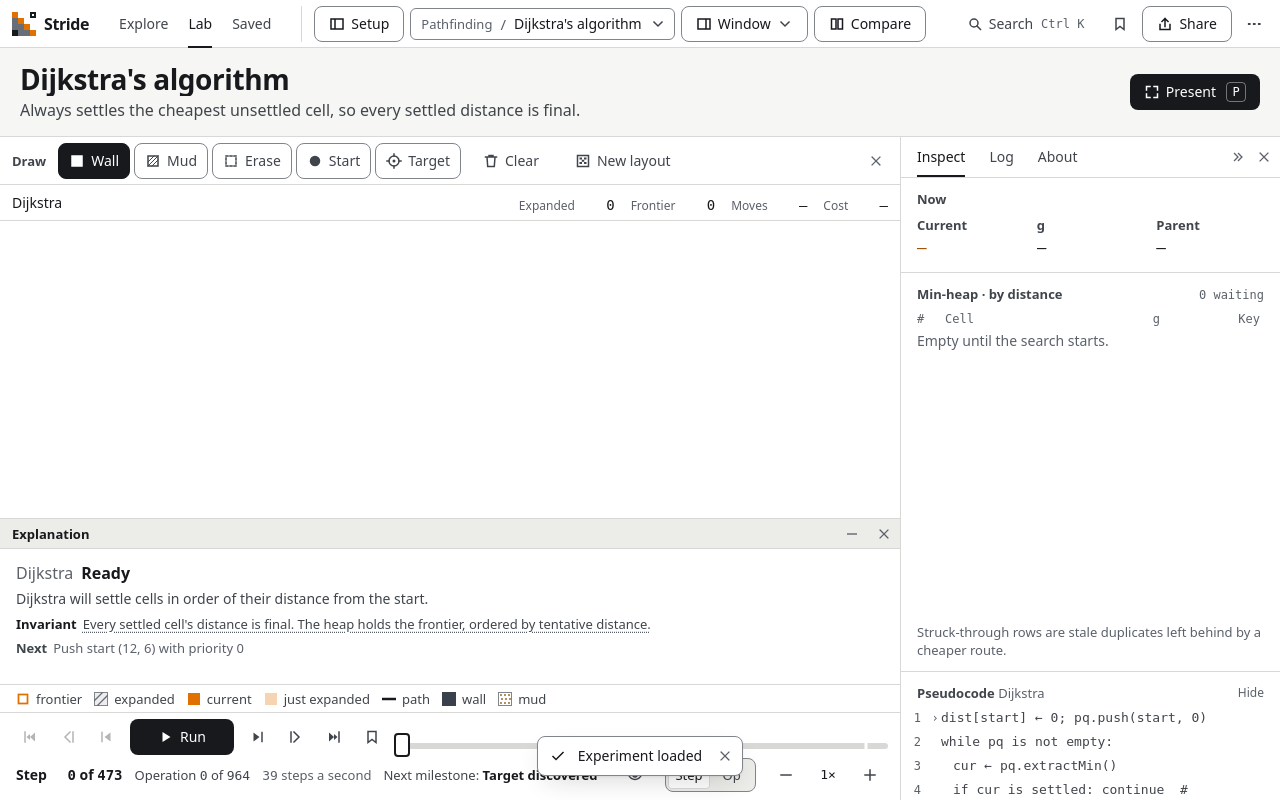
Test: command palette › types BFS in capitals and switches to breadth-first search with Enter
Later steps or results of the test are not shown.
expect the slider named "Timeline position" is shown: met, box top-left (394, 733), bottom-right (410, 757)
Press k
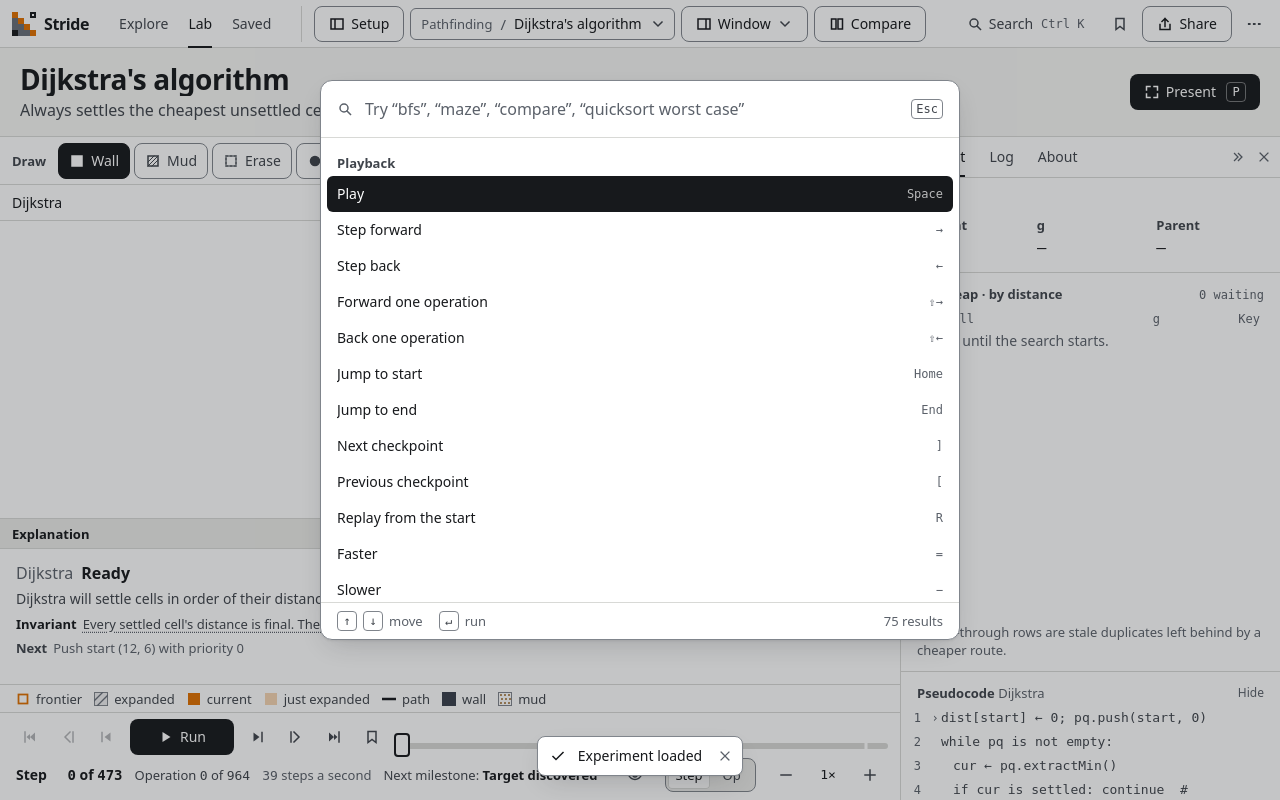
Type "BFS" into the dropdown named "search commands" at (632, 109), box top-left (365, 81), bottom-right (899, 137)
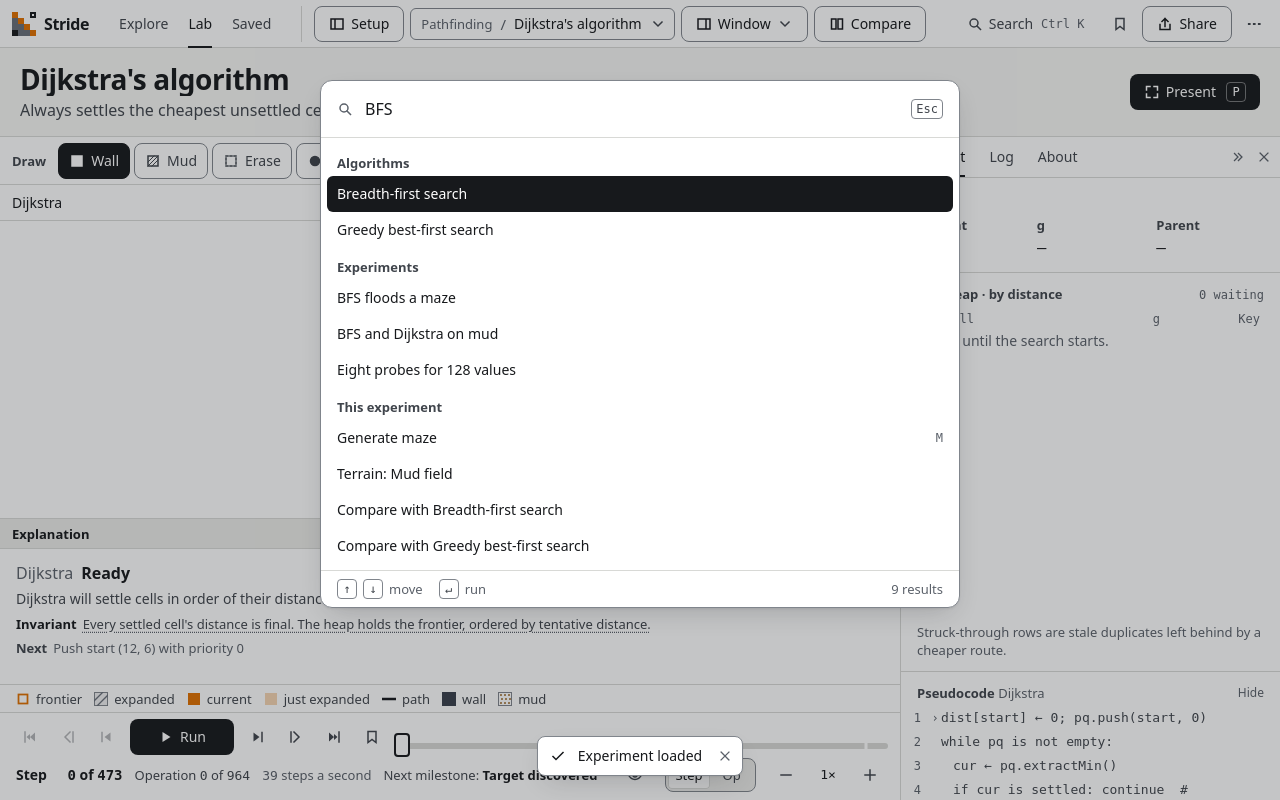
expect the option "Breadth-first search" is shown: met, box top-left (327, 176), bottom-right (953, 212)
